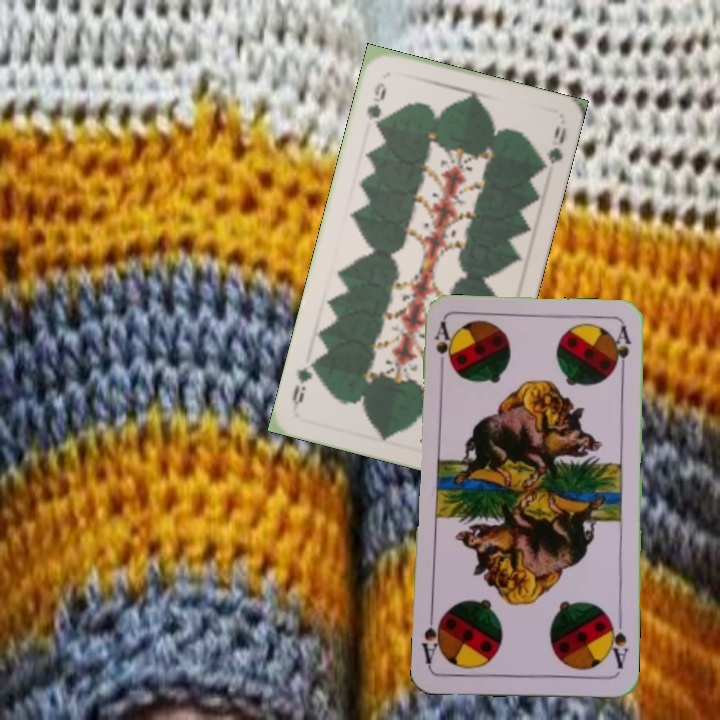G9: (362, 78, 389, 133)
SA: (604, 614, 630, 671), (430, 319, 454, 378)
